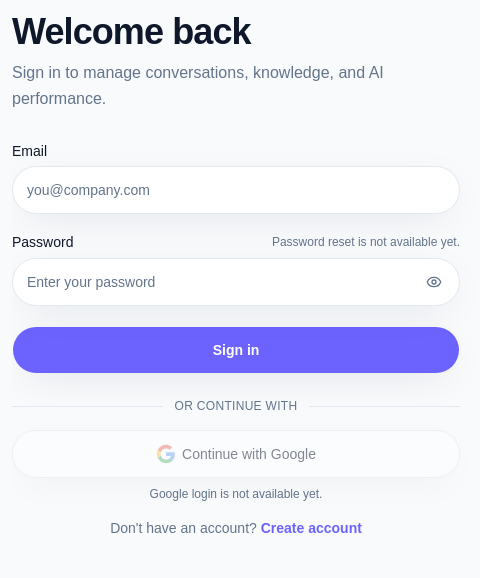
Test: LoginForm › shows an invalid-email message
In the field labelled "Email": (236, 190) [12,166,460,214], type "not-an-email"
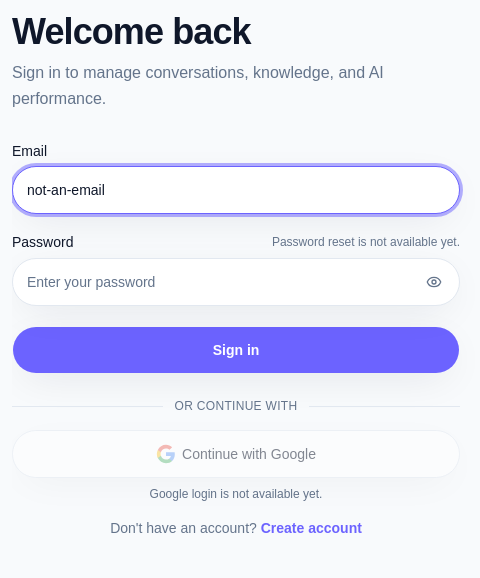
In the password field labelled "Password": (236, 282) [12,258,460,306], type "password123"
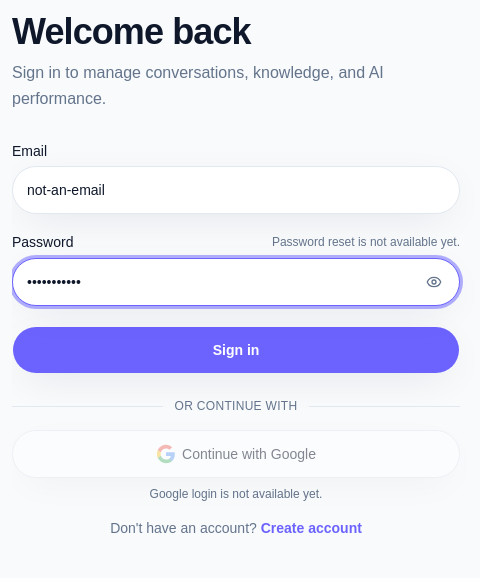
Click the button "Sign in": (236, 350) [12,326,460,374]
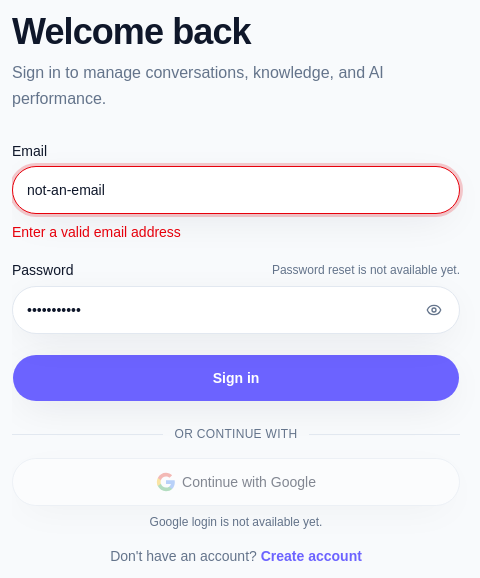
Expected: the text "Enter a valid email address" is shown, [12,224,181,240]
